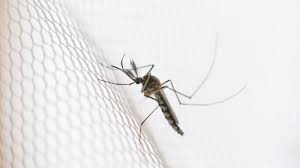mosquito: (92, 45, 243, 153)
